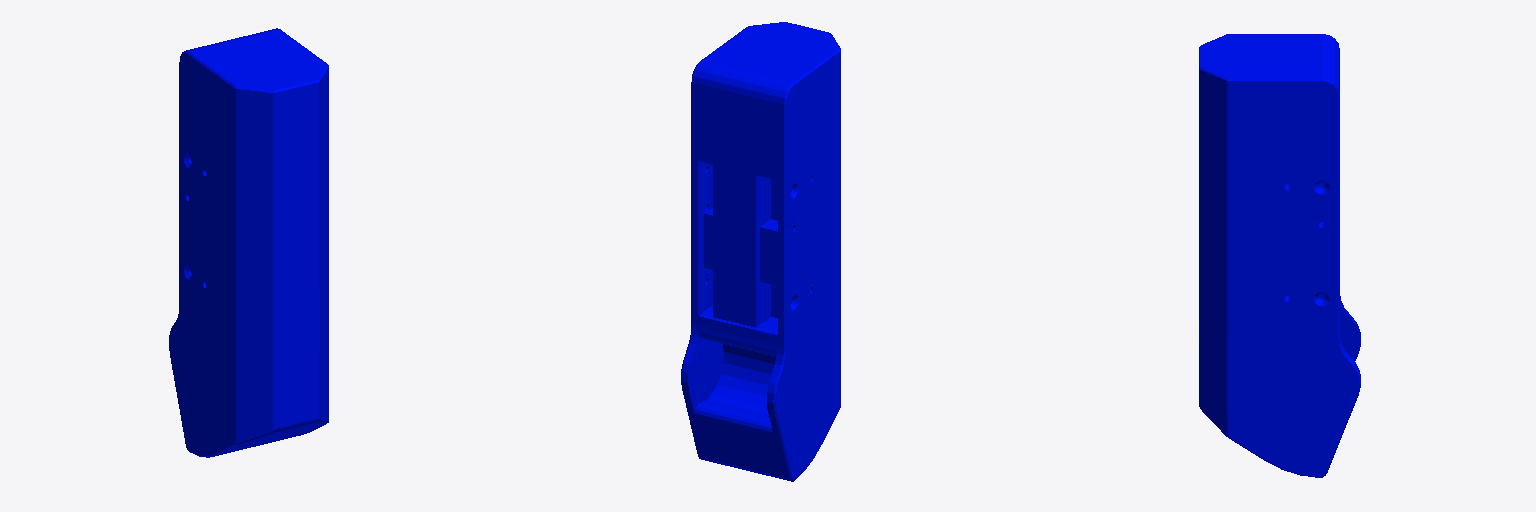
The model's file is LLA_5A0_Lite.obj.
3 renders of one model, left to right at view 1: azimuth 30°, elevation 25°; view 2: azimuth 150°, elevation 25°; view 3: azimuth 270°, elevation 25°, orthographic.
Parts seen in each view (by area): view 1: Object.1; view 2: Object.1; view 3: Object.1.
Part boxes in pixels (x1,y1,x2,y2): Object.1: (169, 28, 328, 457); Object.1: (681, 22, 840, 481); Object.1: (1199, 34, 1360, 477).
Bounding box in the file's own units: 0.064 × 0.2576 × 0.095.